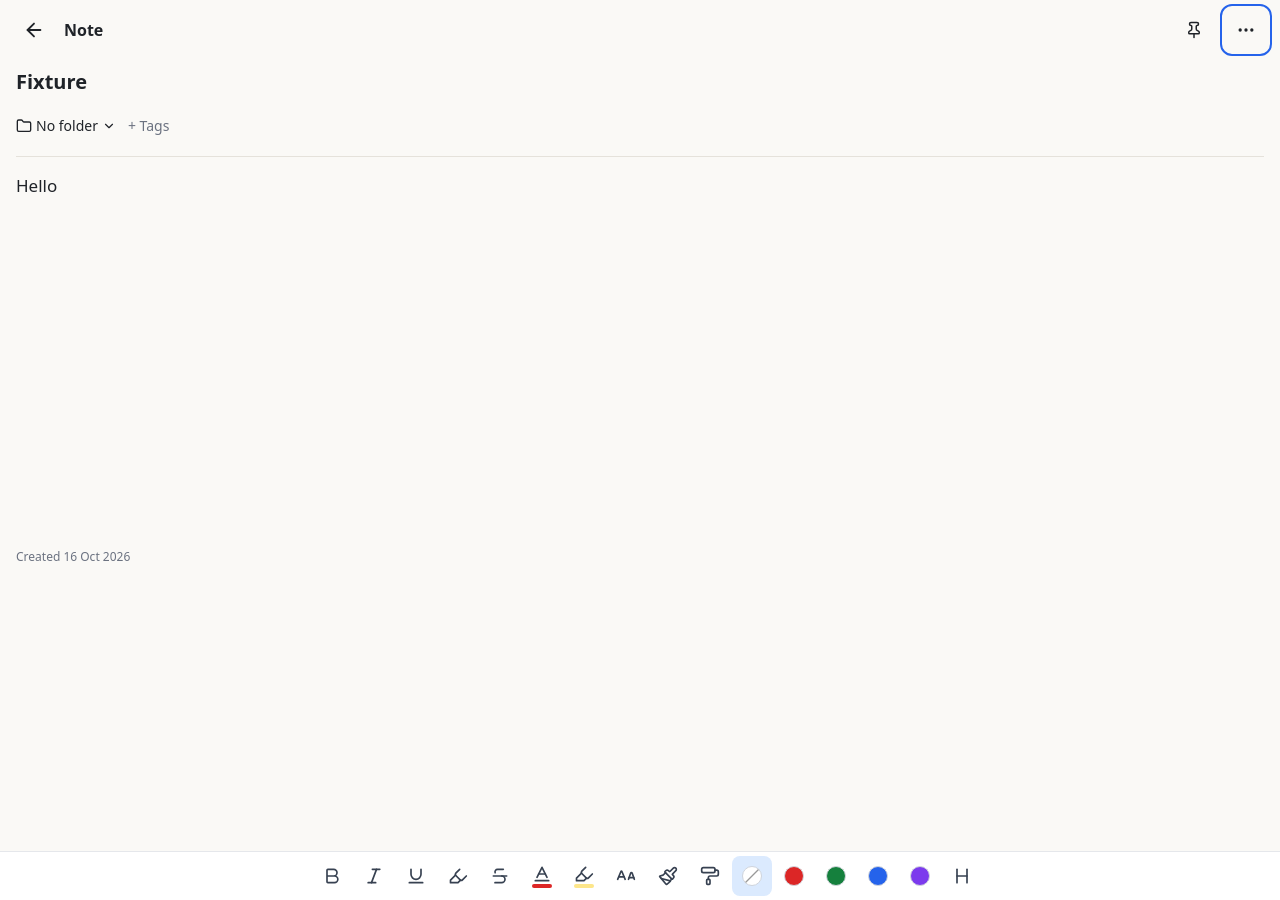
Test case: lists copy, section folds, Trash and Cancel in Note options, and Cancel restores focus
Click the button named "Note options".
click(1246, 30)  # box [1224,8,1268,52]
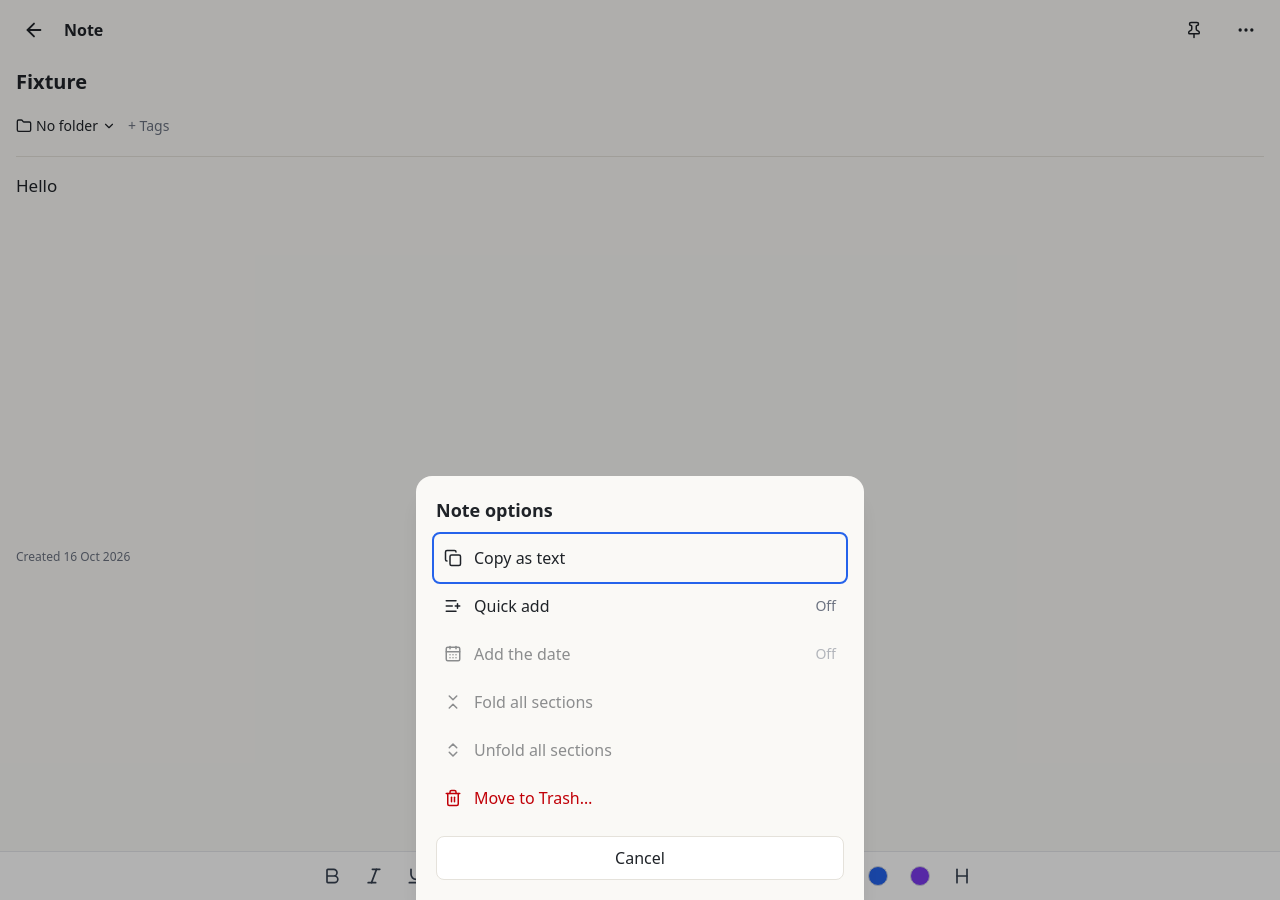
Expected: the buttons read "Copy as text", "Fold all sections", "Unfold all sections", "Move to Trash…", "Cancel", in this order
Click the button "Cancel".
click(640, 858)  # box [436,836,844,880]
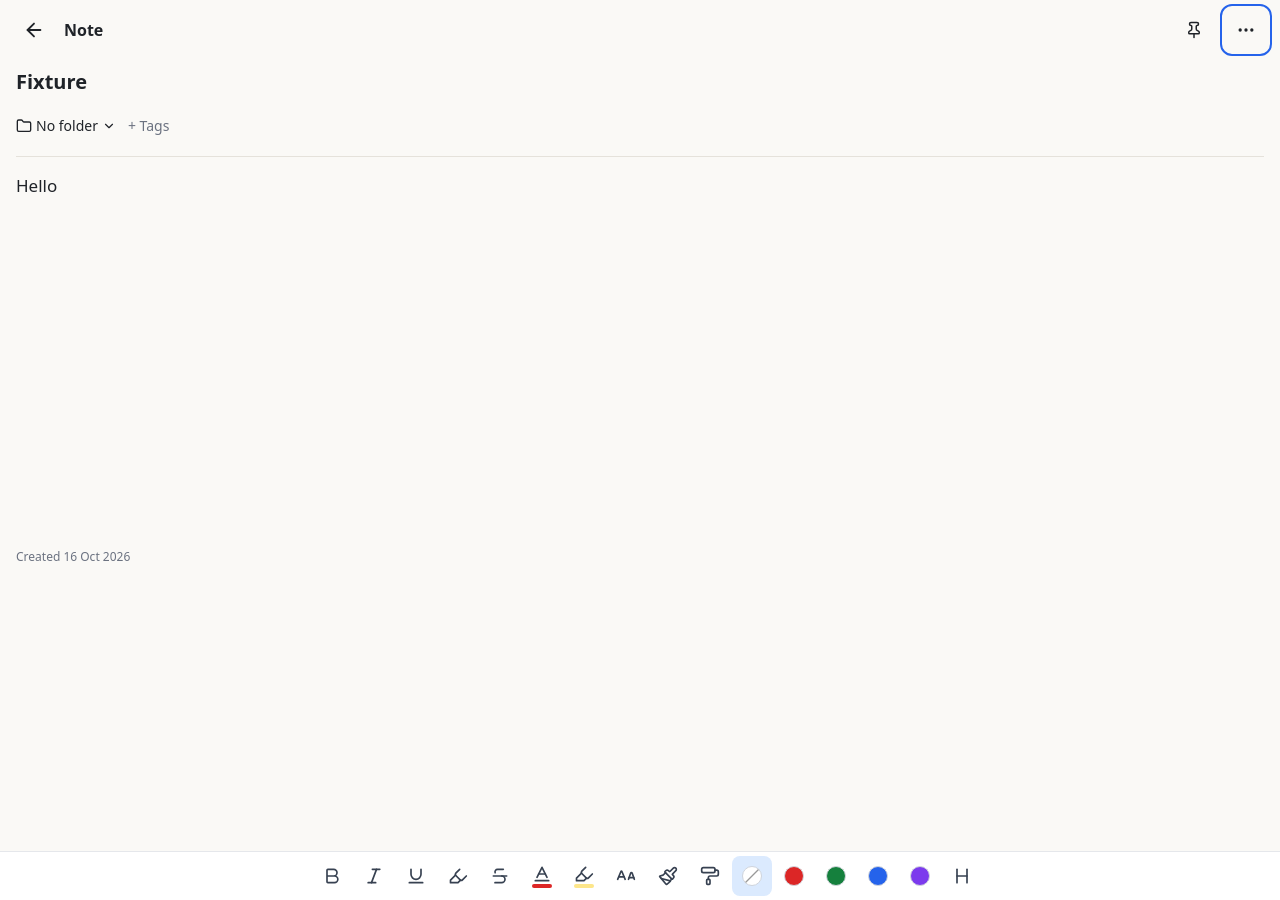
Expected: the dialog is gone
